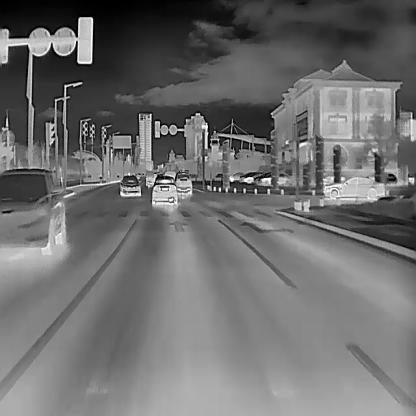car: (0, 165, 66, 255), (322, 174, 387, 199), (151, 174, 179, 206), (259, 169, 290, 186), (119, 175, 141, 197), (174, 169, 192, 195), (241, 170, 267, 182), (230, 170, 247, 181), (146, 172, 158, 186), (165, 169, 176, 182)
